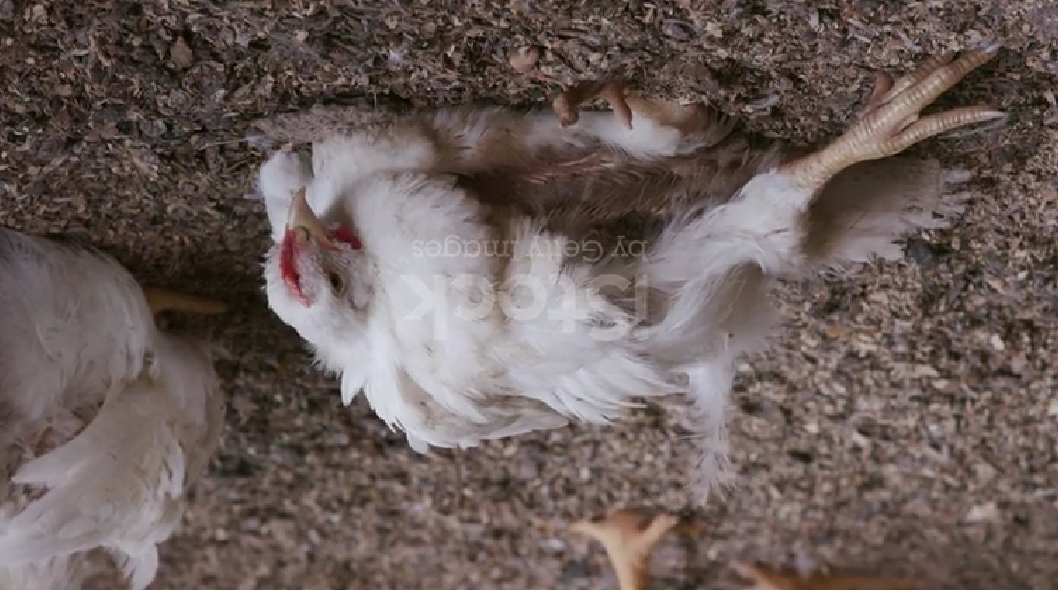Unhealthy: (214, 55, 994, 441)
